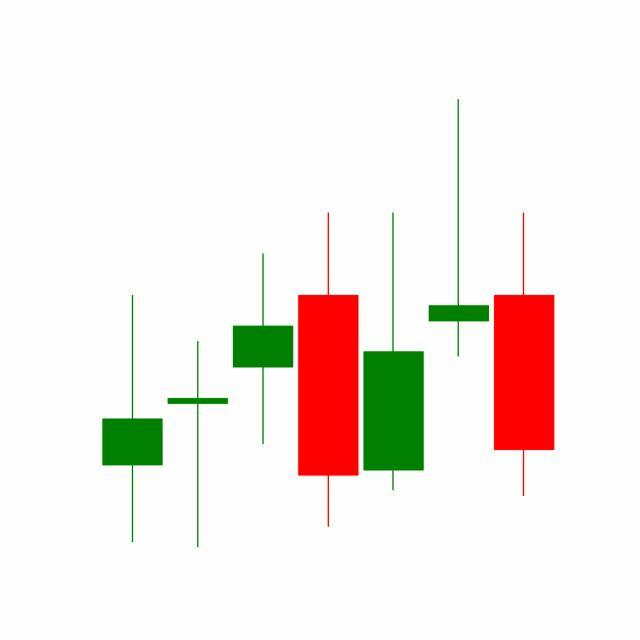Evening Star: (360, 100, 556, 502)
